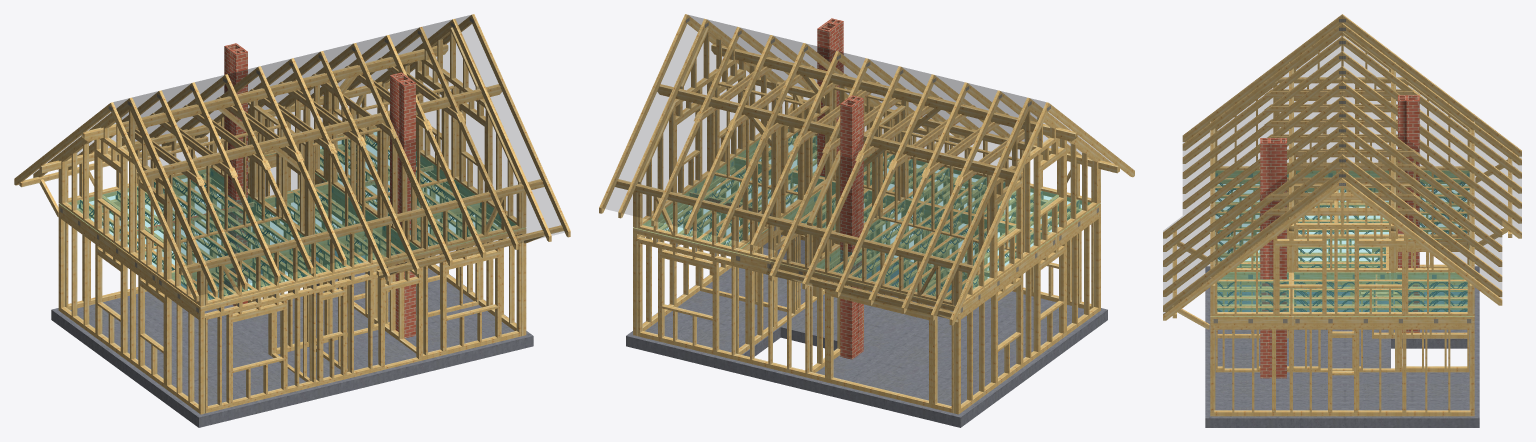
The model's file is house-frame_1.glb.
The picture shows the model from 3 angles, left to right: view 1: azimuth 30°, elevation 25°; view 2: azimuth 150°, elevation 25°; view 3: azimuth 270°, elevation 25°; orthographic projection. The views are drawn at different scales.
Parts seen in each view (by area): view 1: skfb_offset; view 2: skfb_offset; view 3: skfb_offset.
Boxes of the visible parts, x1=… form: skfb_offset: x1=14, y1=14, x2=570, y2=427; skfb_offset: x1=599, y1=14, x2=1134, y2=427; skfb_offset: x1=1163, y1=14, x2=1521, y2=427.
Bounding box in the file's own units: 9.57 × 6.9 × 8.78.
9 materials, 6 textured.
